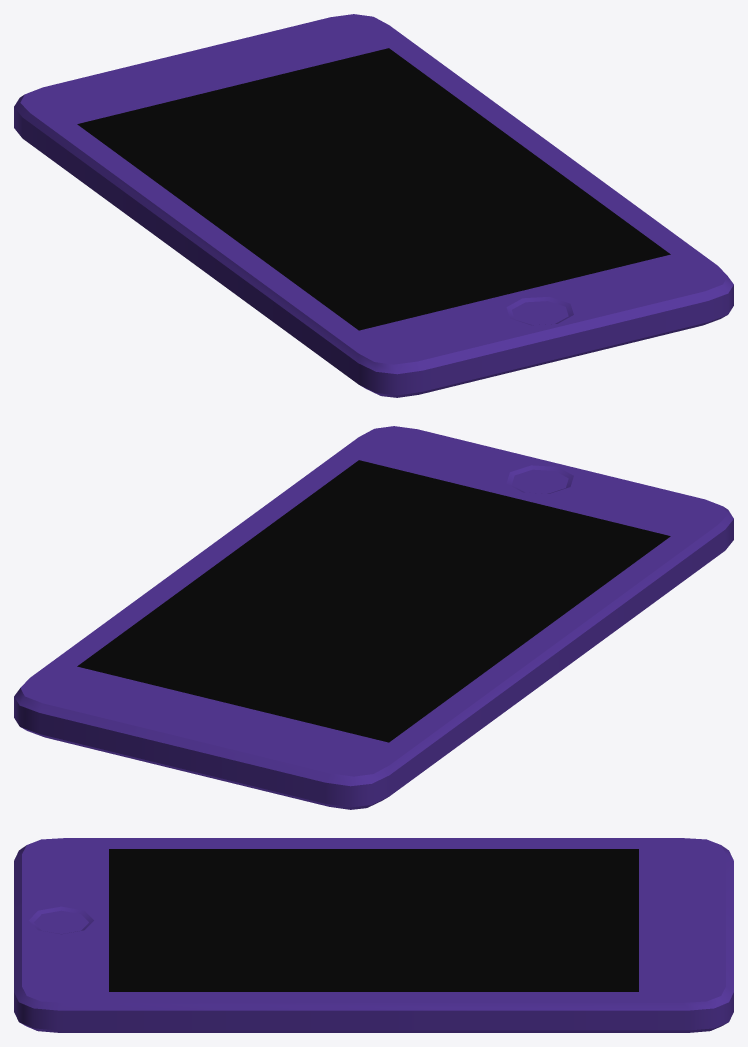
Rendered from phone2.fbx.
3 renders of one model, top to bottom at view 1: azimuth 30°, elevation 25°; view 2: azimuth 150°, elevation 25°; view 3: azimuth 270°, elevation 25°, orthographic. The views are drawn at different scales.
Visible parts, largest first — view 1: phone2; view 2: phone2; view 3: phone2.
Boxes of the visible parts, bbox=[...] form: phone2: bbox=[14, 14, 733, 397]; phone2: bbox=[14, 426, 733, 809]; phone2: bbox=[14, 838, 733, 1032].
Size of the model in its own units: 8.27 by 0.7268 by 14.96.
